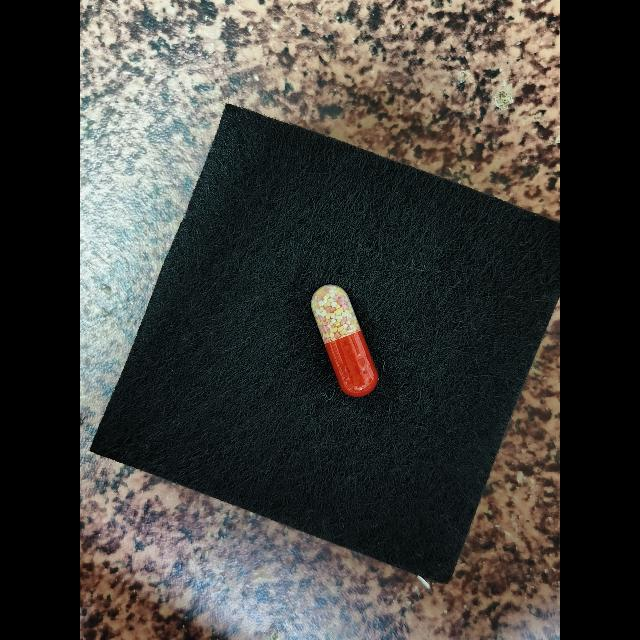Intact Capsule: (311, 285, 378, 397)
